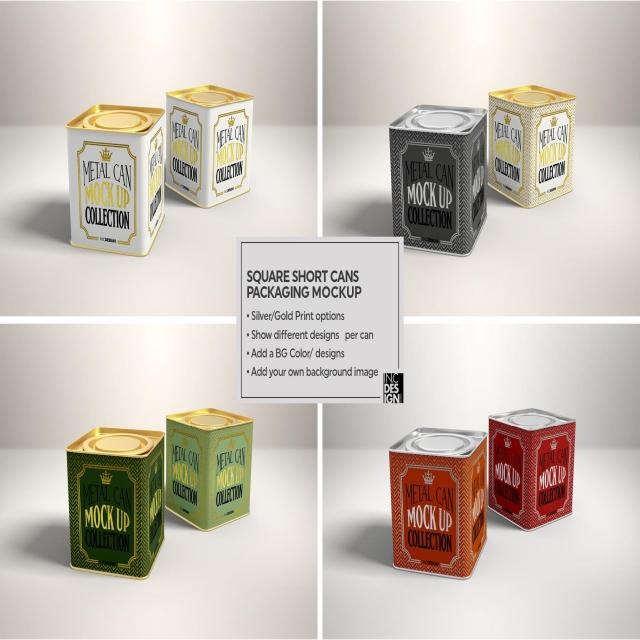metel: (58, 99, 168, 263), (64, 425, 167, 587), (386, 422, 489, 584), (387, 100, 490, 260), (166, 76, 258, 212), (491, 77, 579, 212), (167, 404, 257, 534), (488, 405, 578, 535)
